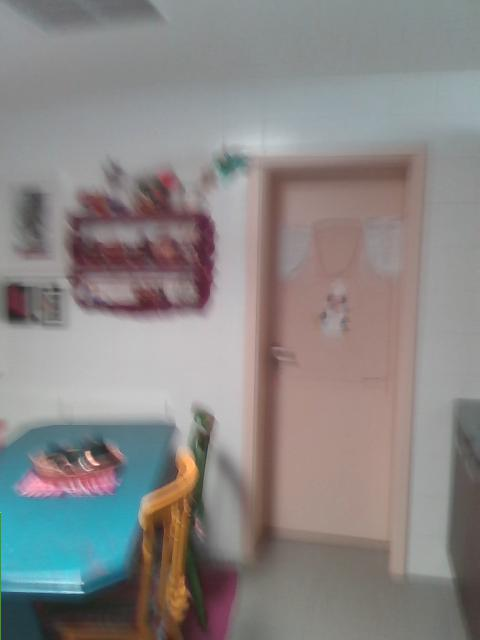closed_door: (239, 138, 423, 571)
